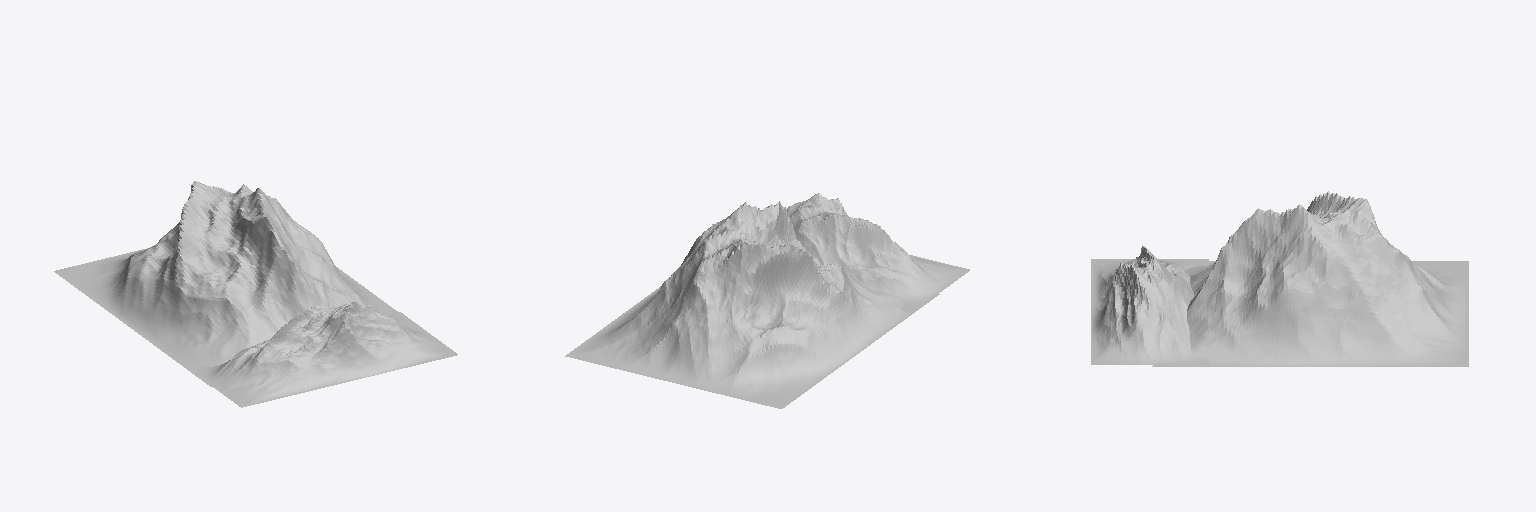
The model's file is mountain1.obj.
3 views of the same model, side by side, from view 1: azimuth 30°, elevation 25°; view 2: azimuth 150°, elevation 25°; view 3: azimuth 270°, elevation 25° (orthographic).
Parts seen in each view (by area): view 1: 地形.2; view 2: 地形.2; view 3: 地形.2.
Part boxes in pixels (bbox=[...]): 地形.2: bbox=[54, 181, 457, 407]; 地形.2: bbox=[565, 193, 969, 408]; 地形.2: bbox=[1091, 191, 1468, 366].
Bounding box in the file's own units: 421 × 213 × 631.